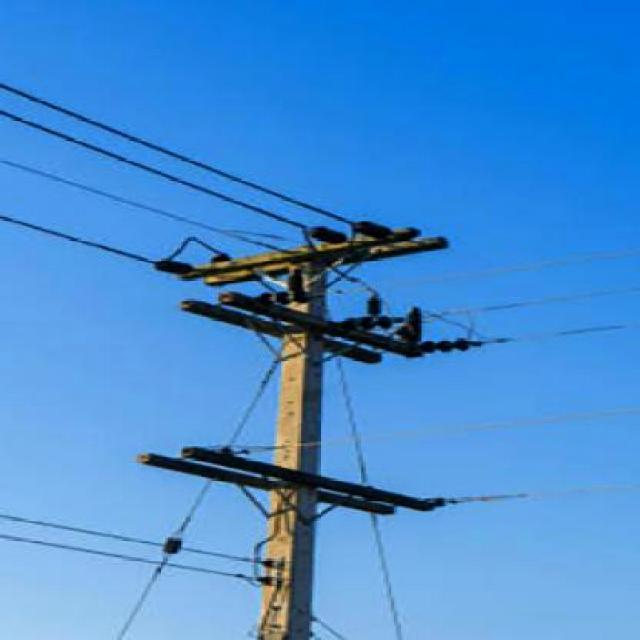crossarm: (181, 446, 438, 511), (137, 453, 395, 515), (221, 291, 425, 357), (181, 300, 382, 365), (179, 229, 419, 281), (205, 237, 448, 286)
pole: (259, 265, 328, 640)
wire: (0, 83, 357, 226), (114, 347, 283, 640), (0, 110, 310, 231), (0, 159, 305, 252), (335, 354, 405, 639), (326, 247, 640, 296), (0, 535, 263, 589), (0, 515, 265, 565), (1, 215, 159, 266), (422, 288, 639, 319), (444, 483, 640, 504), (481, 324, 640, 345), (166, 236, 224, 262), (437, 316, 489, 340), (313, 615, 347, 640)
